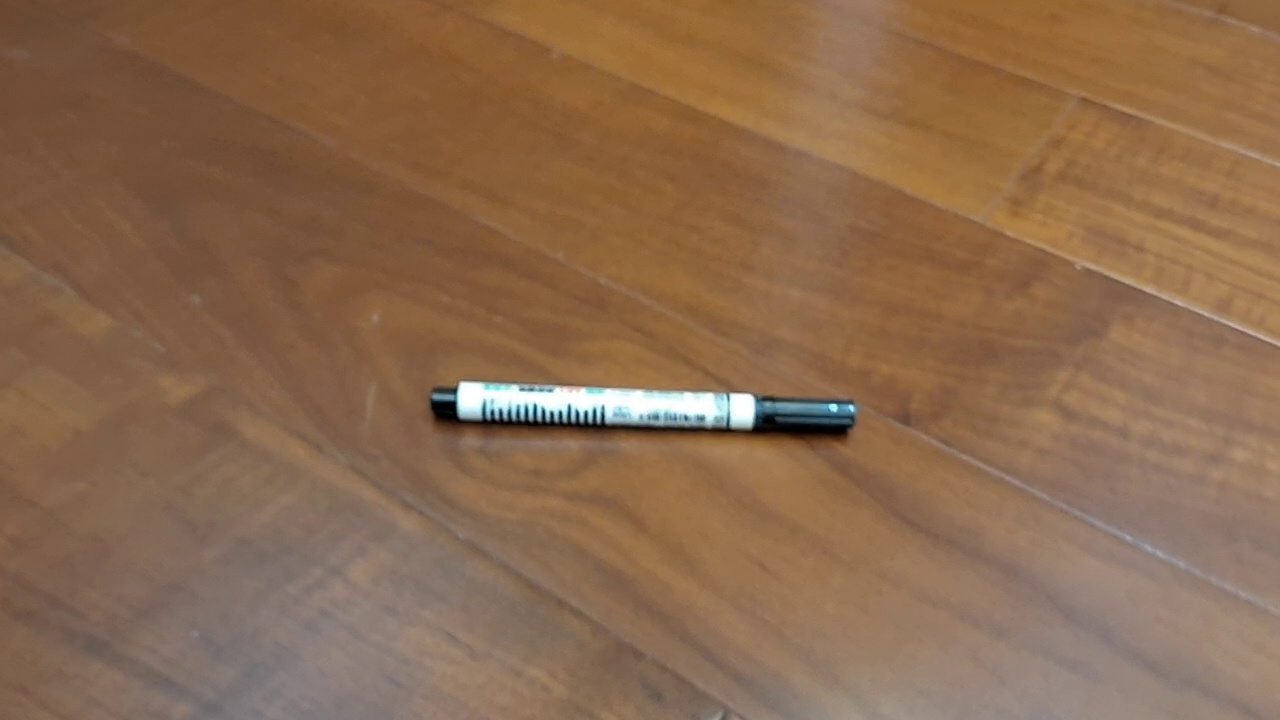pen: (429, 379, 858, 436)
